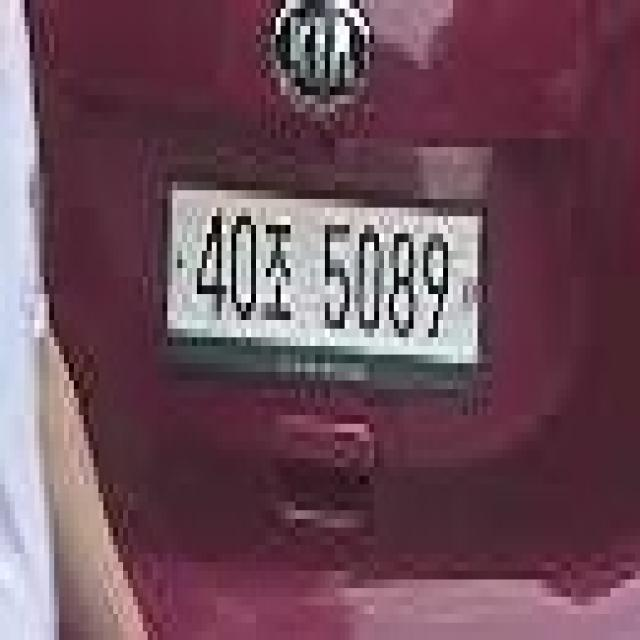0: (226, 199, 261, 329), (354, 208, 384, 337)
4: (192, 208, 226, 320)
5: (320, 216, 354, 329)
8: (389, 225, 418, 337)
9: (418, 225, 458, 337)
jo: (261, 216, 300, 329)
license_plate: (162, 173, 488, 363)
